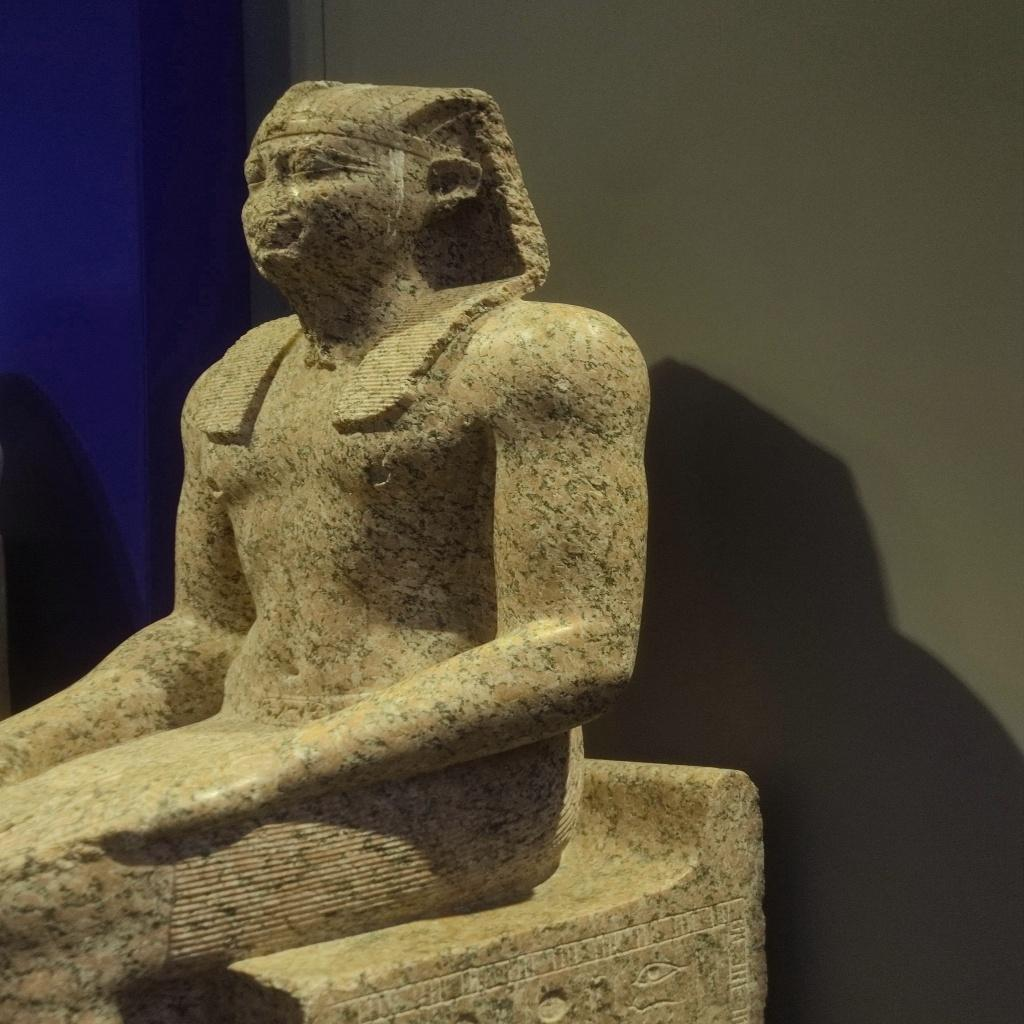Statue of Amenmhat I: (0, 66, 659, 898)
